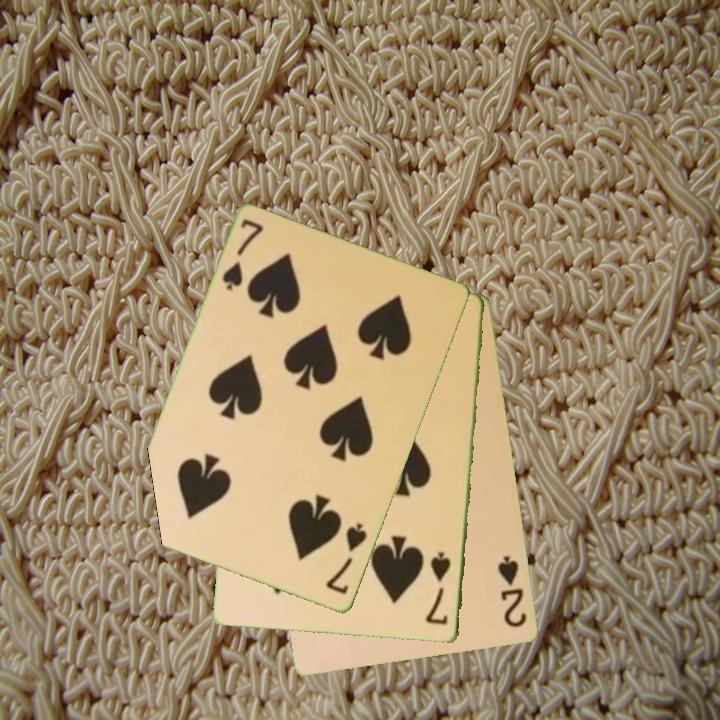2s: (495, 552, 530, 631)
7s: (322, 520, 371, 598), (219, 216, 267, 294), (423, 549, 454, 629)
